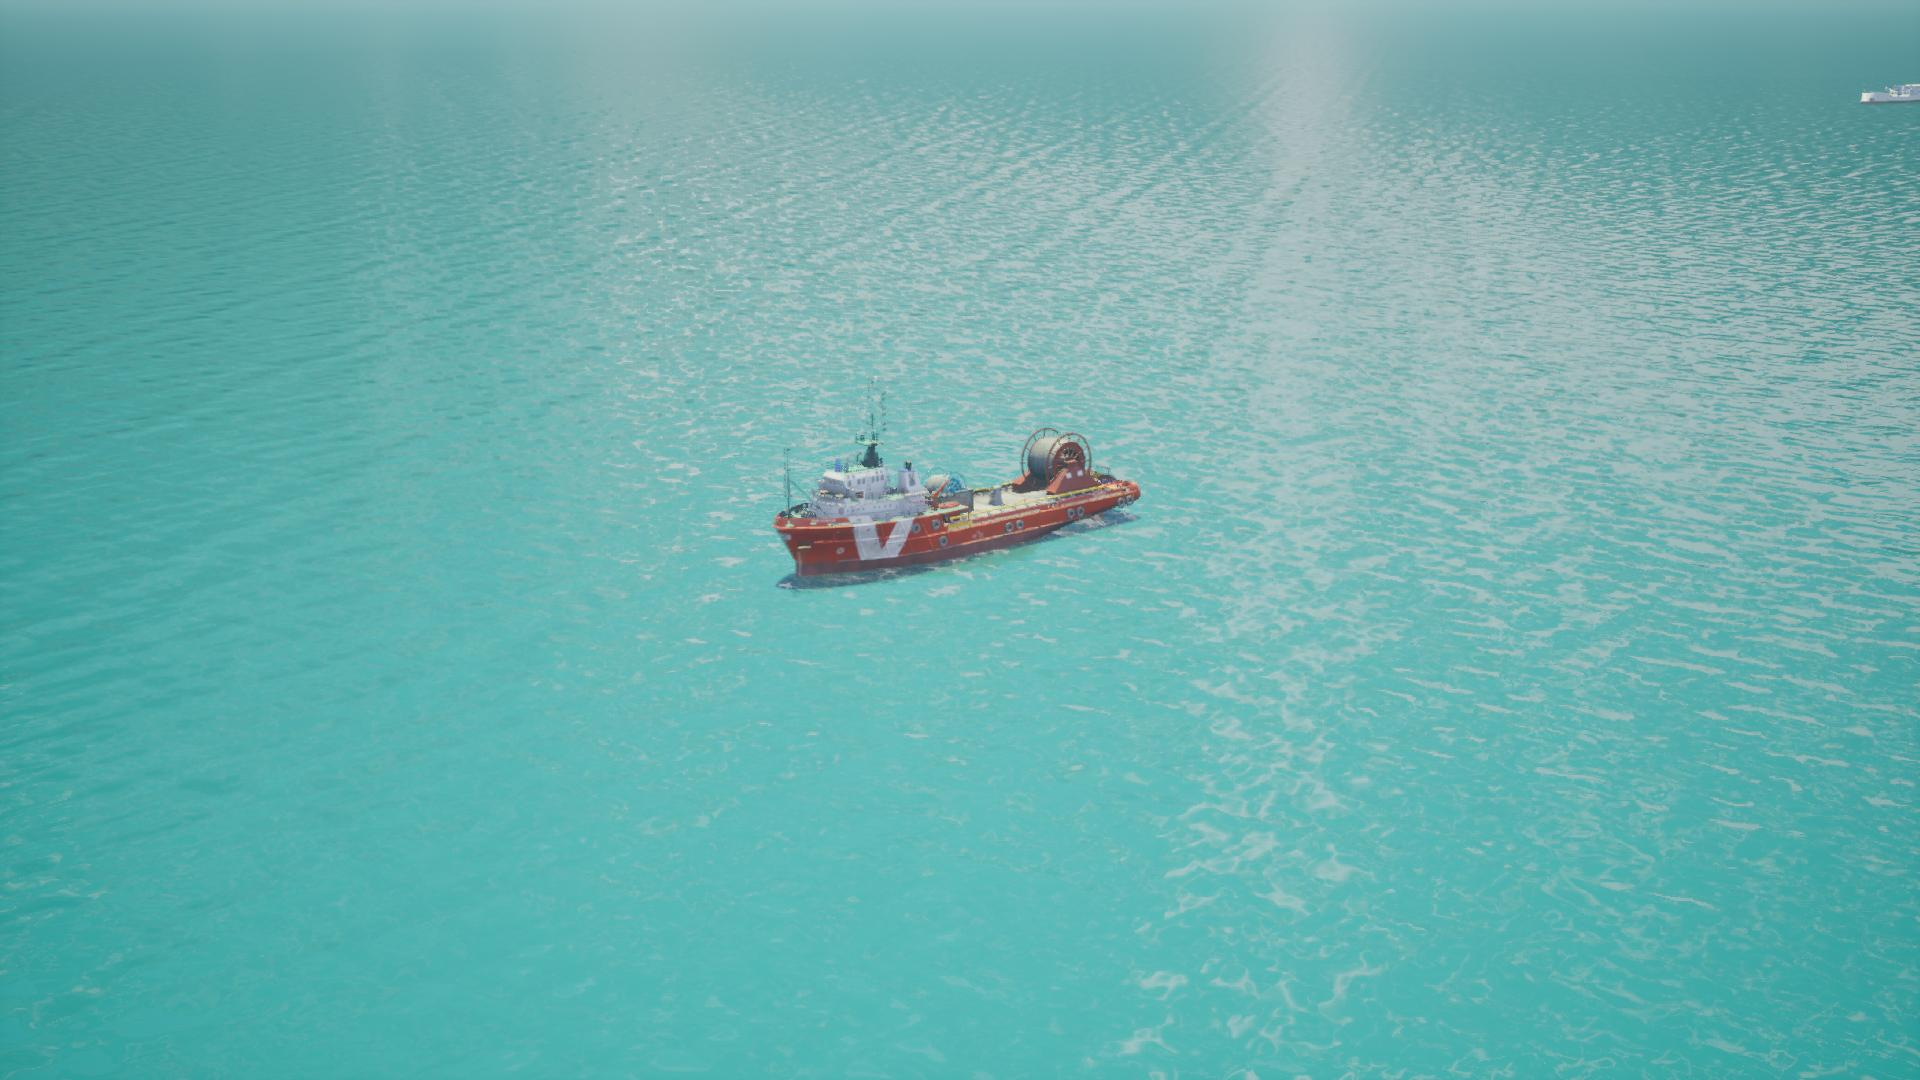Tug Boat: (767, 429, 1146, 585)
